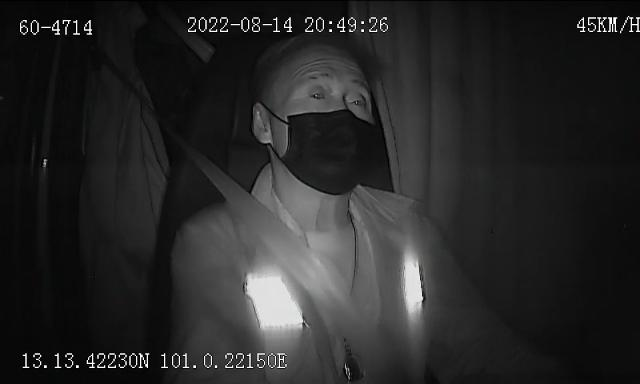Seatbelt: (190, 148, 354, 384)
